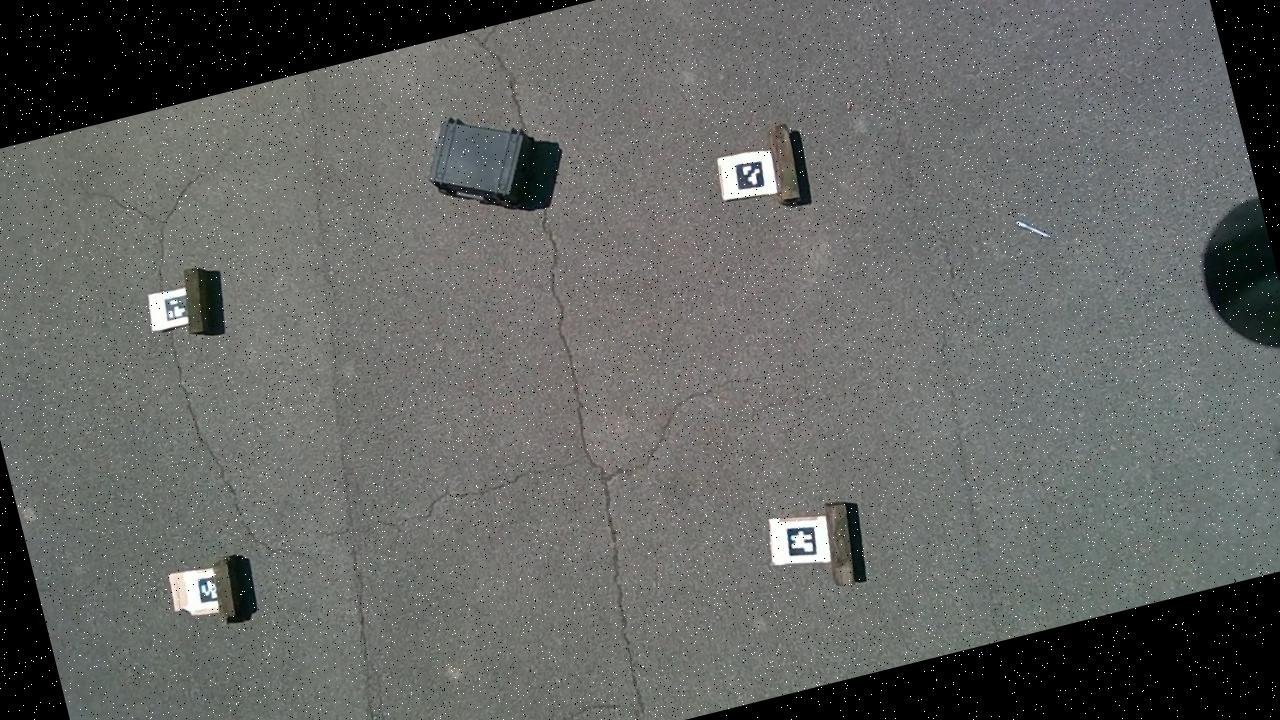probes: (1015, 214, 1050, 243)
rako: (416, 95, 573, 234)
